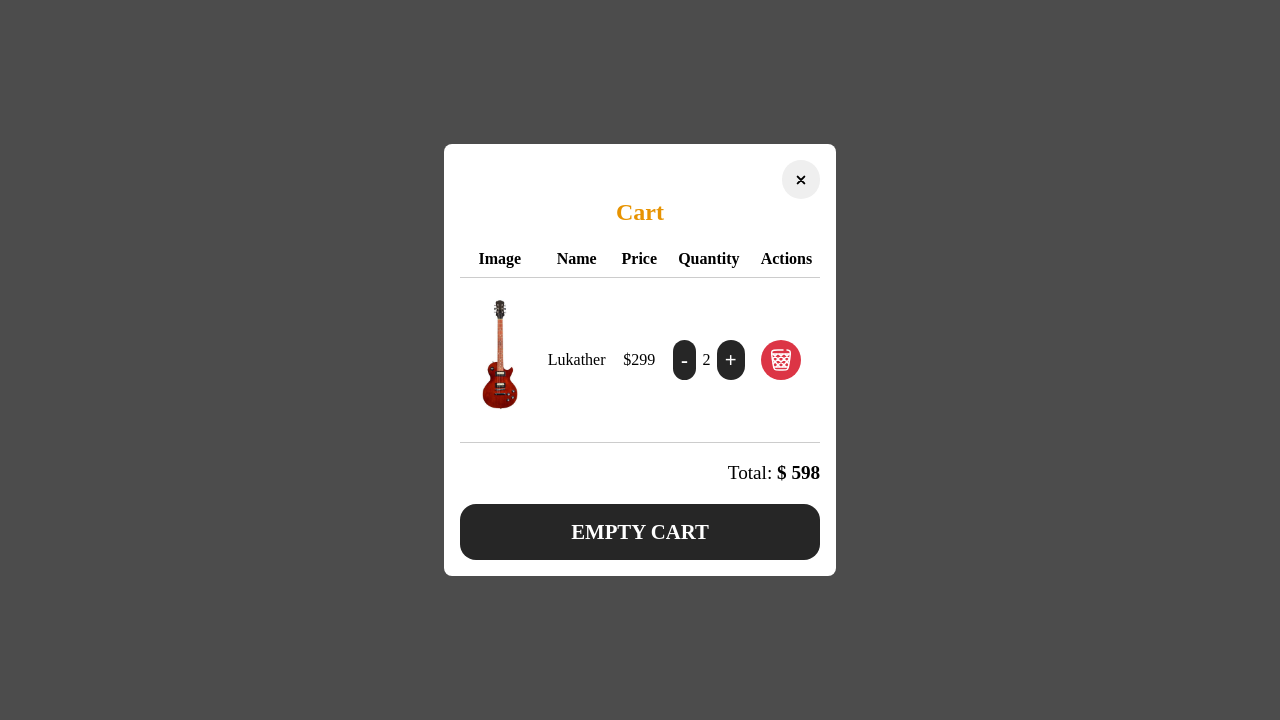
Test: Cart Test › Can remove items with stepper
This screenshot has width=1280, height=720.
Expected: the text with id "stepper-qty-1" reads "2", [702,351,710,368]
Click the button with id "stepper-remove-button-1" at (685, 360), box [673,340,696,380]
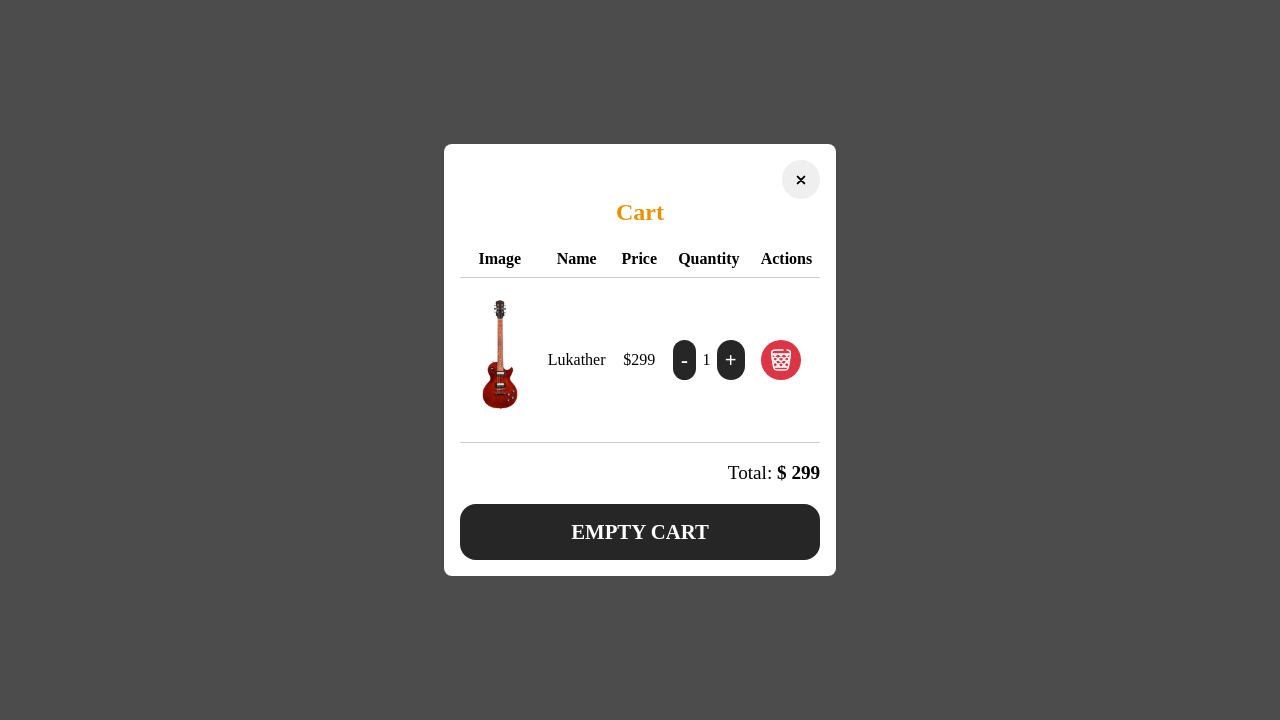
Expected: the text with id "stepper-qty-1" reads "1", [702,351,710,368]
